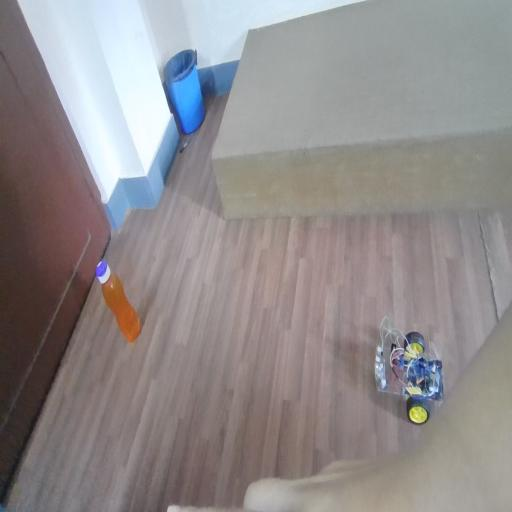Bottle: (91, 257, 148, 340)
car: (369, 311, 441, 427)
